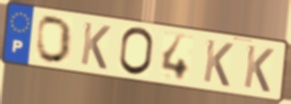4: (159, 32, 192, 82)
K: (78, 20, 113, 72), (241, 43, 276, 95), (201, 37, 235, 89)
O: (117, 25, 156, 78), (35, 15, 74, 65)
